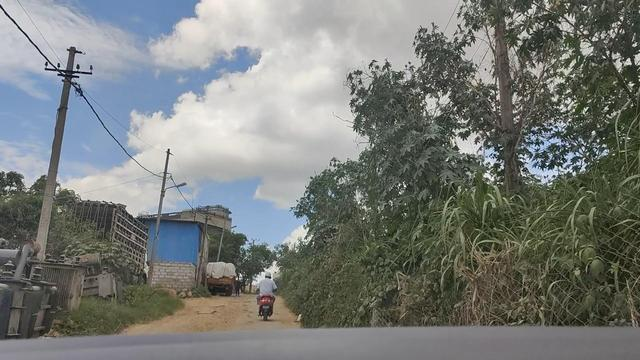HMV: (202, 258, 235, 297)
UnsurfacedRoad: (163, 299, 245, 332)
